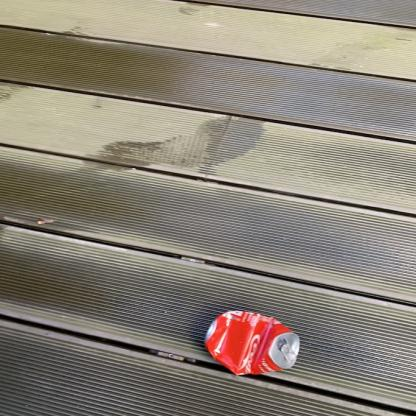Aerosols: (194, 304, 309, 385)
